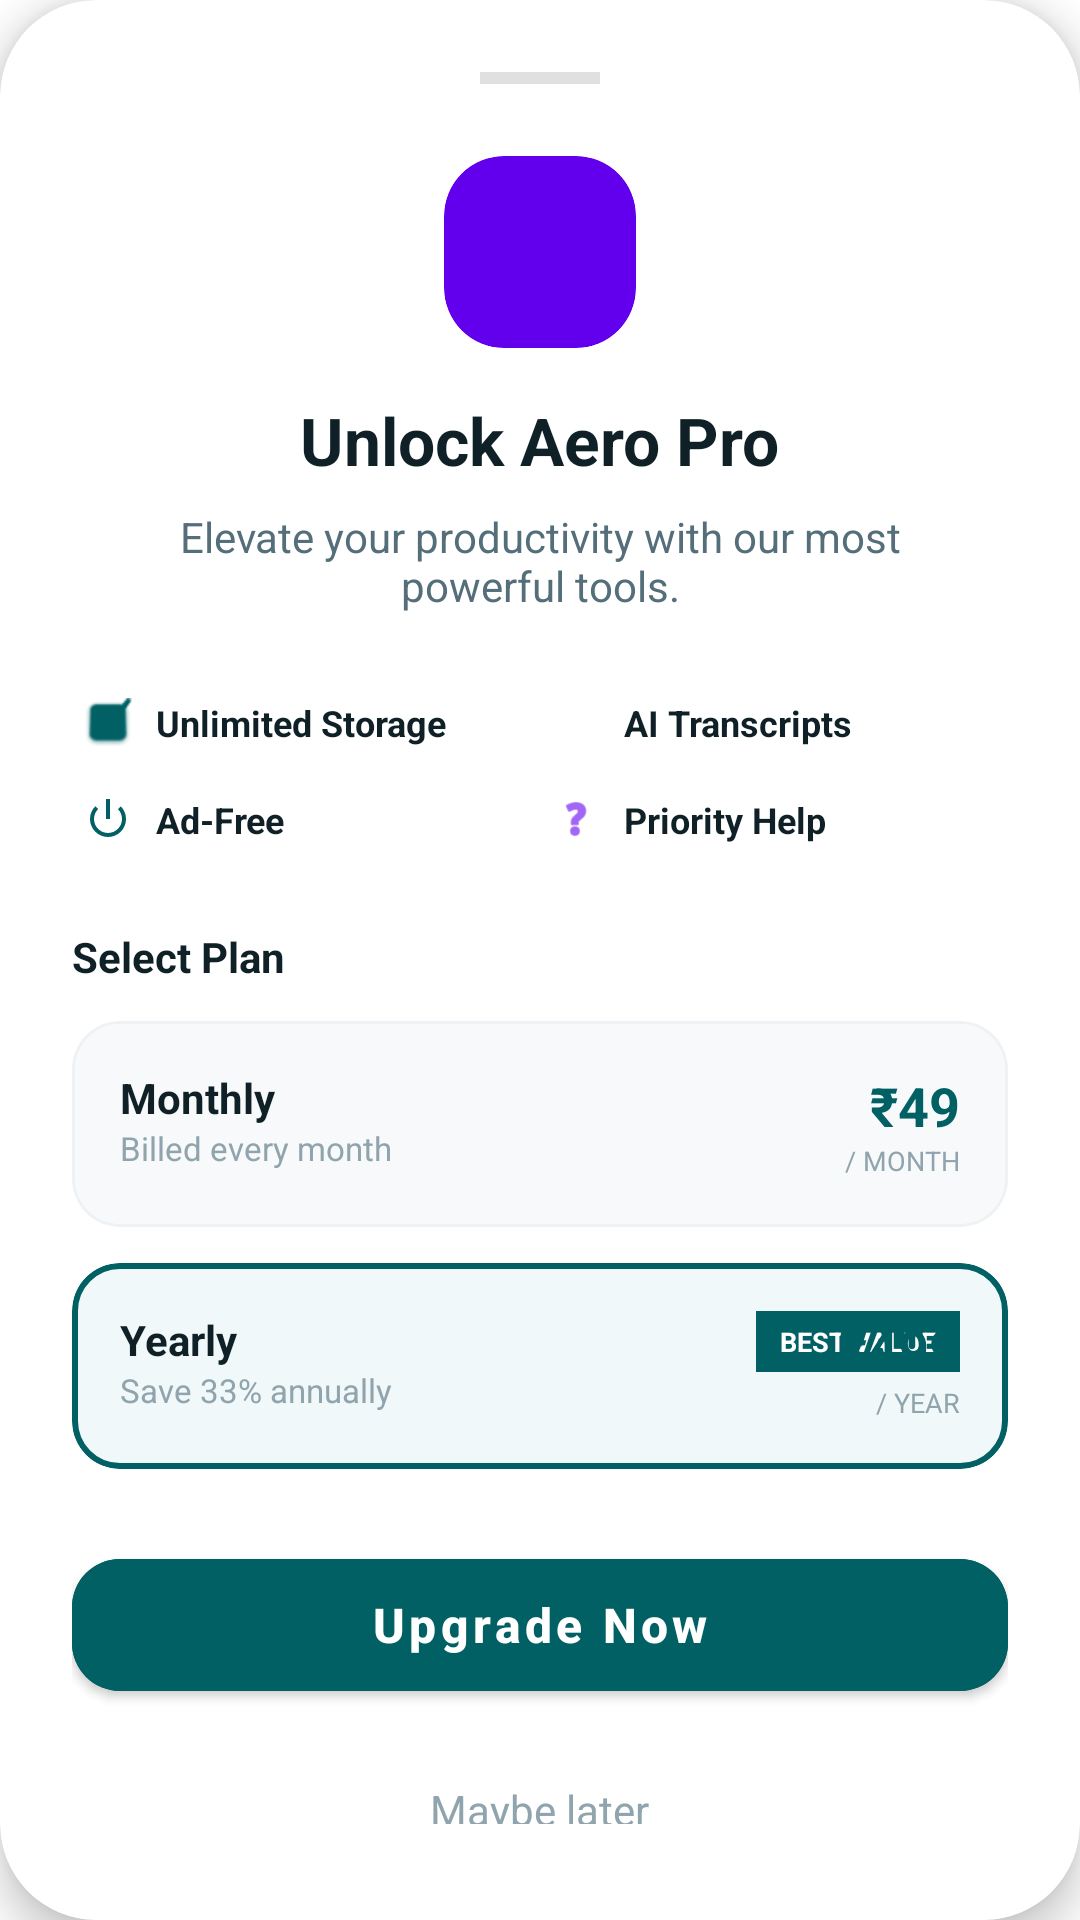

Point at icon controls on the screen. Image size 1080×1920, points as (x=x, y=y).
lock power off: (x=108, y=818)
